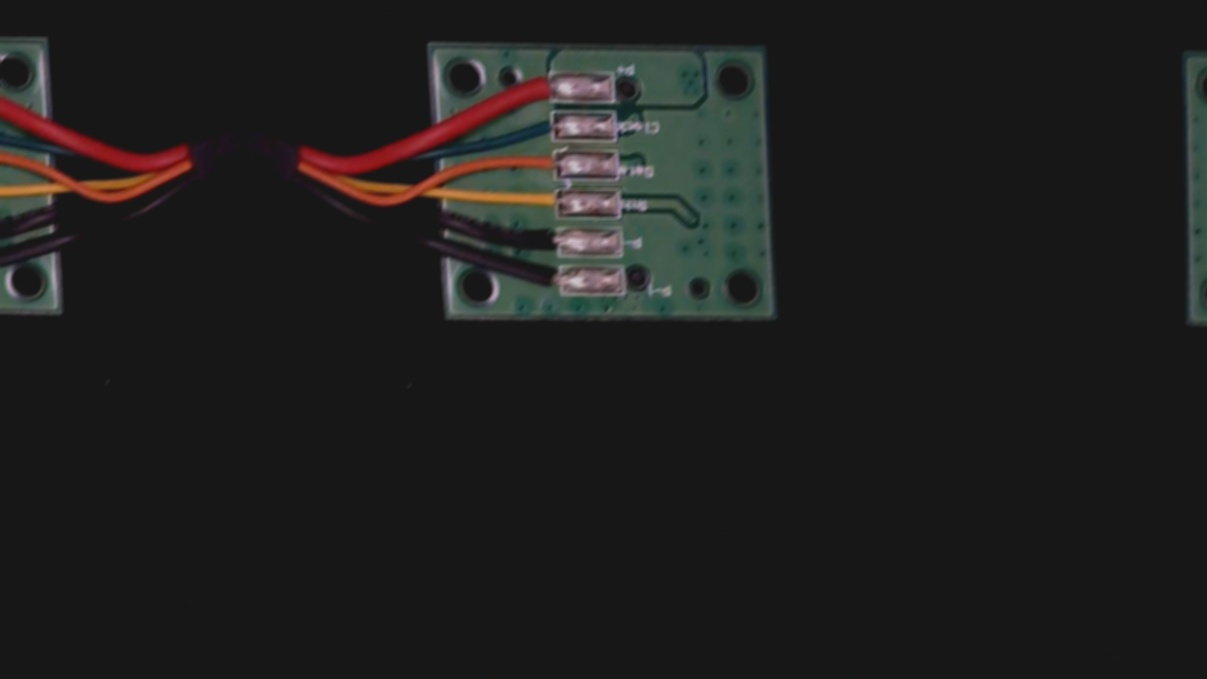Black: (504, 224, 580, 260)
Black1: (511, 263, 581, 296)
Green: (507, 110, 580, 145)
Orange: (505, 149, 580, 182)
Red: (501, 70, 574, 105)
Yellow: (503, 189, 580, 224)
